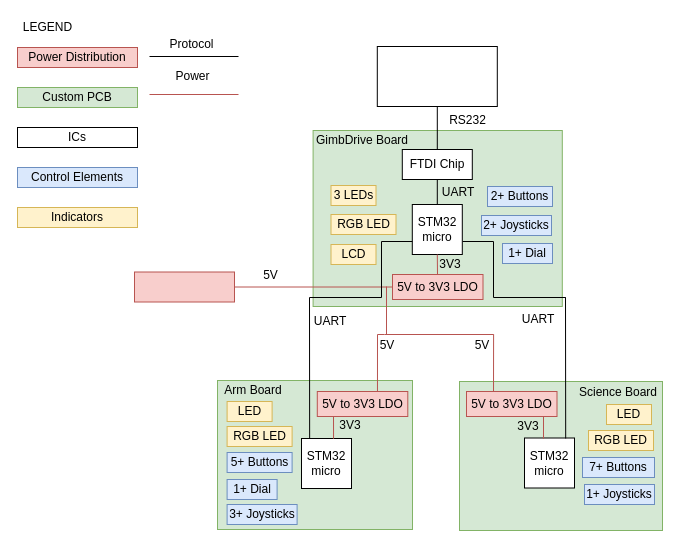
Image size: 680x548. Some labels were removed from this diagram. The centre of each missing label's shape, as x and y in pixels:
"Base Station Computer" goes at point 436,76.
"External Power Source" goes at point 184,286.
